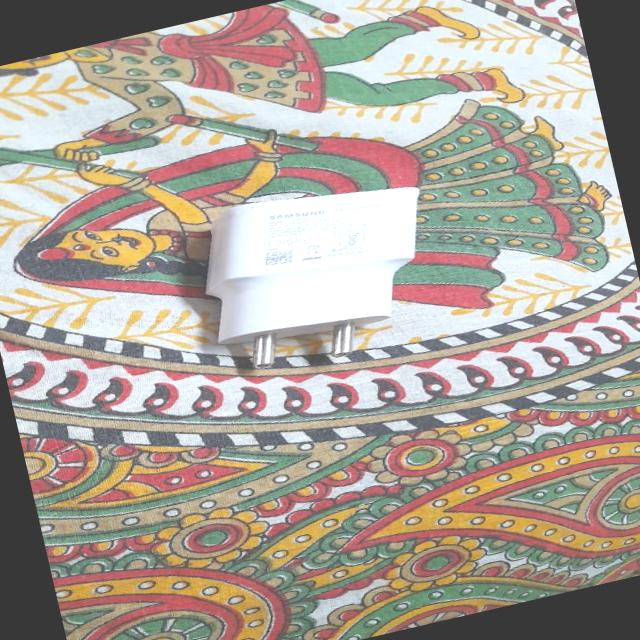Charger - Recyclable: (183, 162, 454, 381)
